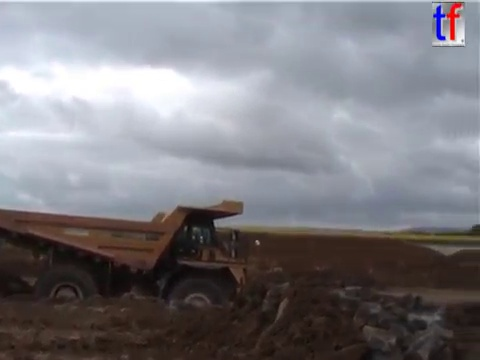truck: (1, 196, 263, 338)
